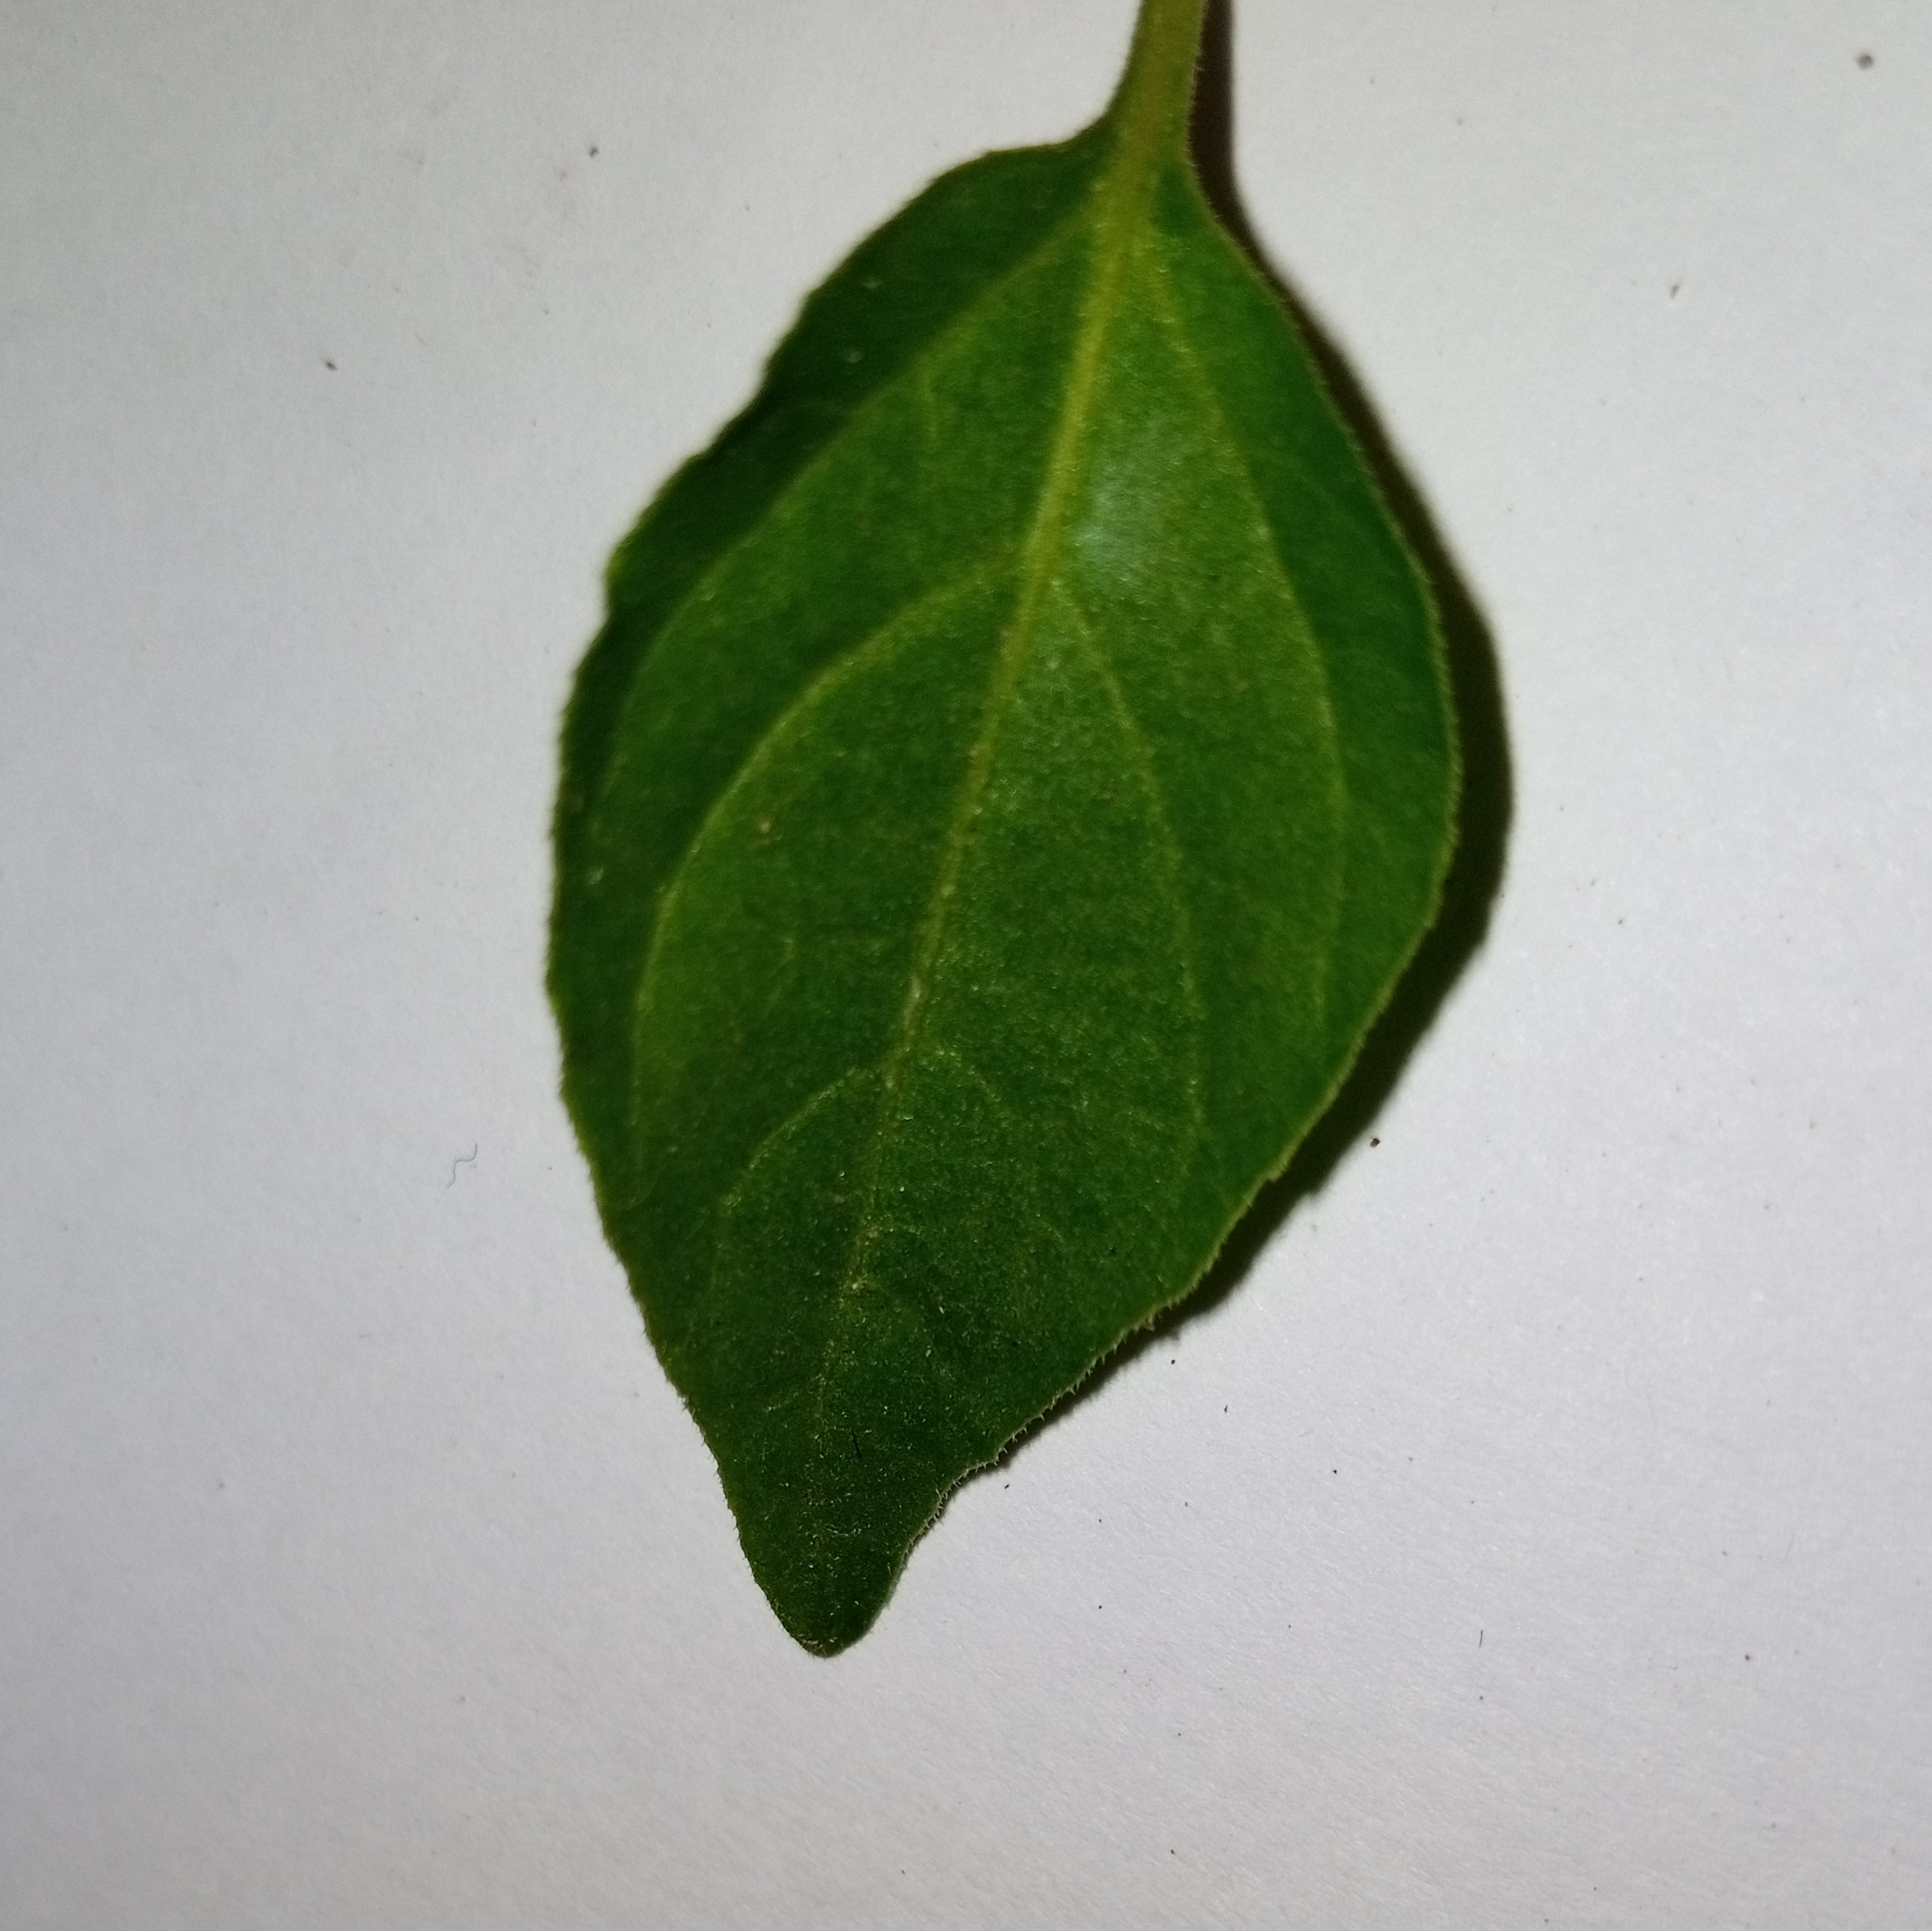Leaf: (396, 76, 1782, 1813)
